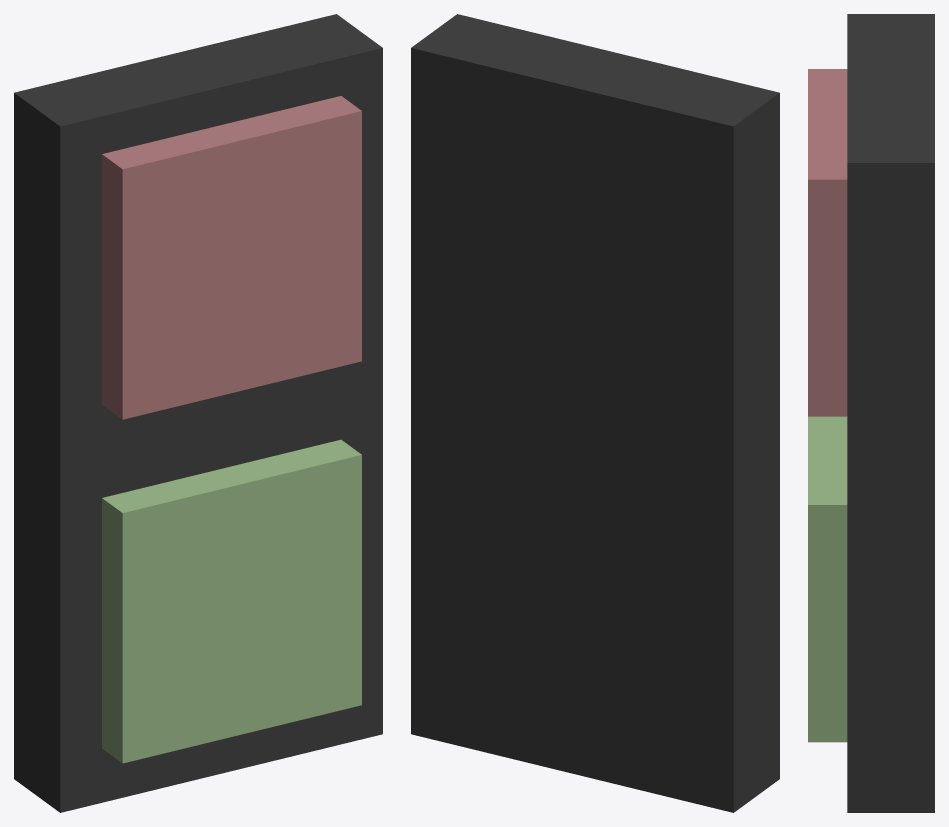
File: OFFICE_TOMBOL.fbx
The picture shows the model from 3 angles, left to right: view 1: azimuth 30°, elevation 25°; view 2: azimuth 150°, elevation 25°; view 3: azimuth 270°, elevation 25°; orthographic projection. The views are drawn at different scales.
Parts seen in each view (by area): view 1: Cube.208; view 2: Cube.208; view 3: Cube.208.
Part boxes in pixels (x1,y1,x2,y2): Cube.208: [14, 14, 382, 812]; Cube.208: [411, 14, 779, 812]; Cube.208: [808, 14, 934, 812].
Bounding box in the file's own units: 30.26 × 61.54 × 10.88.
